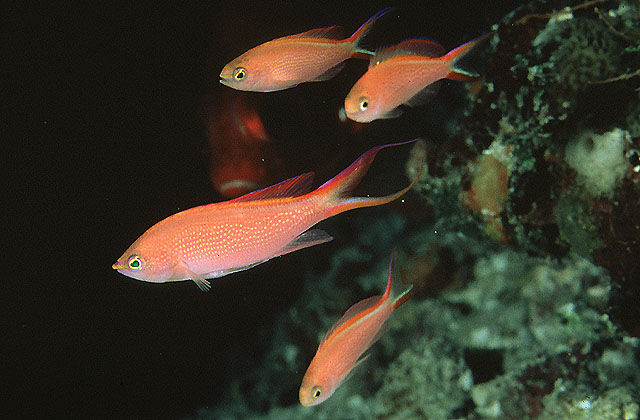fish: (111, 139, 424, 292), (298, 253, 415, 408), (218, 8, 387, 93), (344, 33, 493, 124)
